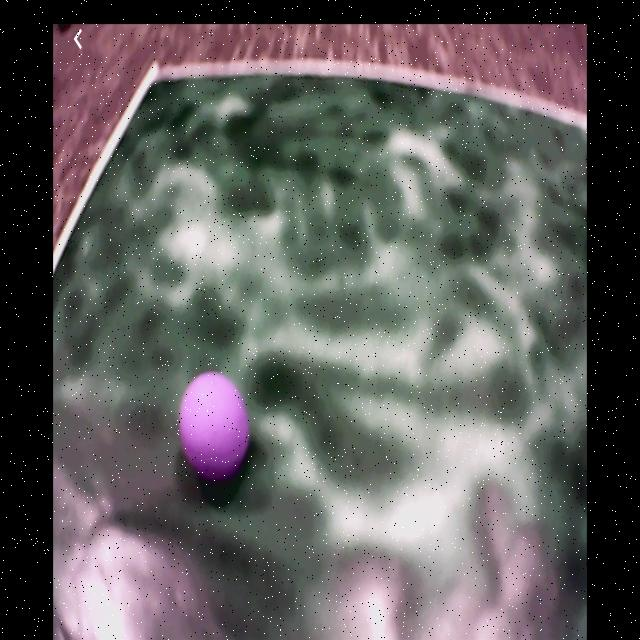ball: (181, 370, 250, 475)
